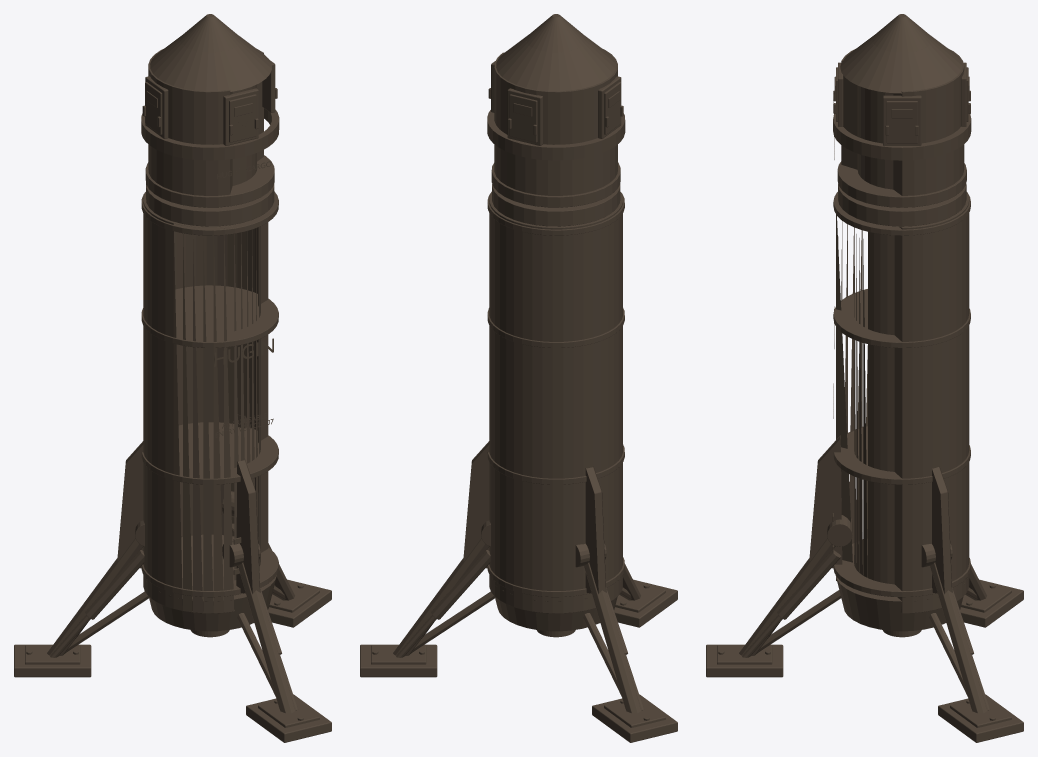
Rendered from hugin_wreck.glb.
3 views of the same model, side by side, from view 1: azimuth 30°, elevation 25°; view 2: azimuth 150°, elevation 25°; view 3: azimuth 270°, elevation 25° (orthographic).
Visible parts, largest first — view 1: Booster propellant hull, Cargo pressure hull, Booster reinforcement ring.002, Cargo ogive shoulder, Booster reinforcement ring.001, Cargo mating collar, Cargo capture collar, Cargo separation ring, Thermal descent fin, Booster engine skirt, Landing main strut, Thermal descent fin.002 (+17 smaller); view 2: Booster propellant hull, Cargo pressure hull, Cargo ogive shoulder, Cargo mating collar, Cargo capture collar, Landing main strut.002, Thermal descent fin.002, Thermal descent fin.001, Booster engine skirt, Cargo separation ring, FLAT_LANDING_FOOT_02, Cargo nose (+16 smaller); view 3: Booster propellant hull, Cargo pressure hull, Cargo ogive shoulder, Booster engine skirt, Cargo mating collar, Thermal descent fin, Cargo capture collar, Booster reinforcement ring.002, Cargo separation ring, Landing main strut.001, Booster reinforcement ring.001, Thermal descent fin.001 (+16 smaller).
Boxes of the visible parts, x1,y1,x2,y2 form: Booster propellant hull: (143,192,268,613); Cargo pressure hull: (148,49,263,195); Booster reinforcement ring.002: (141,285,278,347); Cargo ogive shoulder: (150,35,271,91); Booster reinforcement ring.001: (141,422,278,484); Cargo mating collar: (146,184,274,226); Cargo capture collar: (141,108,279,160); Cargo separation ring: (145,155,274,207); Thermal descent fin: (236,459,260,593); Booster engine skirt: (146,575,276,631); Landing main strut: (238,562,294,713); Thermal descent fin.002: (117,441,143,568); Booster propellant hull: (489,192,622,613); Cargo pressure hull: (494,49,617,195); Cargo ogive shoulder: (496,35,616,91); Cargo mating collar: (492,184,620,226); Cargo capture collar: (487,110,625,160); Landing main strut.002: (584,562,640,713); Thermal descent fin.002: (585,466,606,593); Thermal descent fin.001: (463,441,489,568); Booster engine skirt: (495,577,622,631); Cargo separation ring: (491,162,620,207); FLAT_LANDING_FOOT_02: (360,644,437,677); Cargo nose: (526,14,586,52); Booster propellant hull: (836,192,969,613); Cargo pressure hull: (841,49,964,195); Cargo ogive shoulder: (840,35,962,93); Booster engine skirt: (835,575,967,631); Cargo mating collar: (838,183,966,226); Thermal descent fin: (809,435,842,568); Cargo capture collar: (833,114,971,160); Booster reinforcement ring.002: (833,289,970,347); Cargo separation ring: (837,161,966,207); Landing main strut.001: (930,562,986,713); Booster reinforcement ring.001: (833,426,970,484); Thermal descent fin.001: (932,466,952,593).
Bounding box in the file's own units: 10.94 × 21.4 × 9.48.
